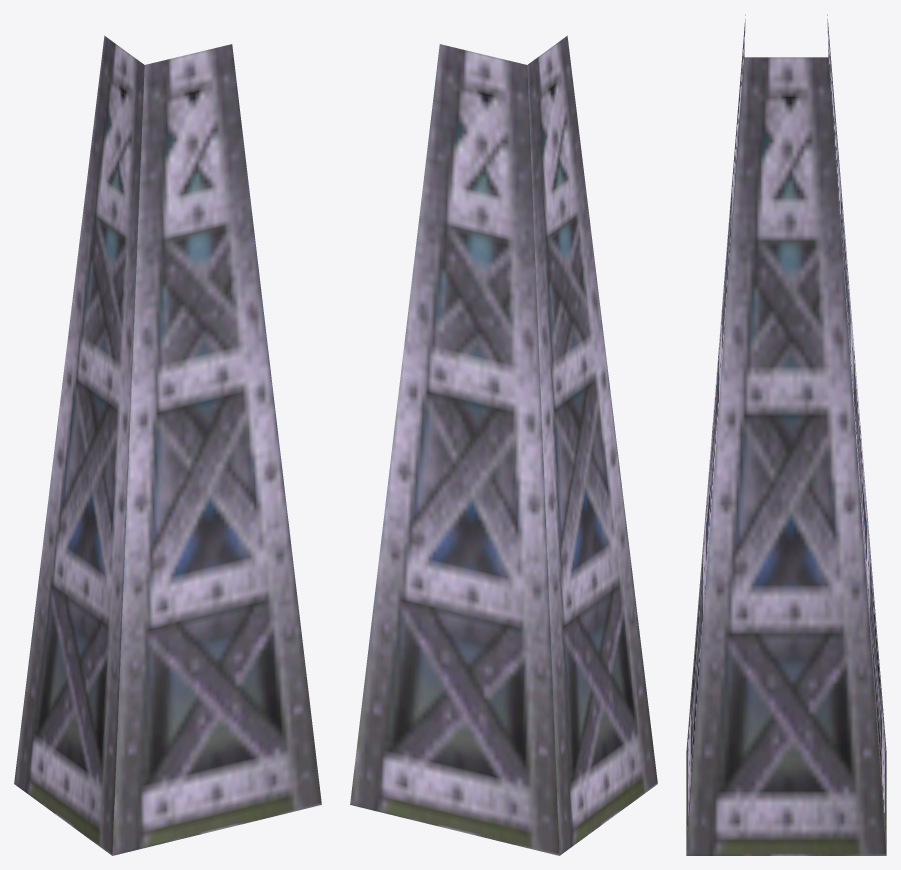
Rendered from LEG_03.glb.
3 views of the same model, side by side, from view 1: azimuth 30°, elevation 25°; view 2: azimuth 150°, elevation 25°; view 3: azimuth 270°, elevation 25° (orthographic).
Parts seen in each view (by area): view 1: LEG_03; view 2: LEG_03; view 3: LEG_03.
Boxes of the visible parts, x1,y1,x2,y2 form: LEG_03: (14, 35, 321, 855); LEG_03: (350, 35, 657, 855); LEG_03: (686, 14, 886, 855).
Bounding box in the file's own units: 291 × 1003 × 237.
Materials: 1 (1 with a texture image).
